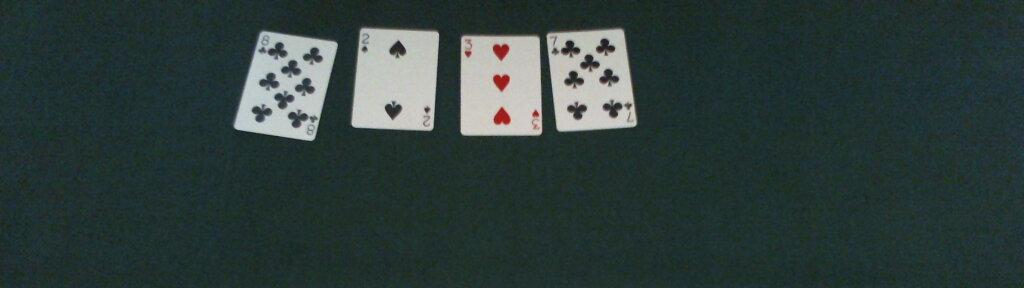eight: (233, 30, 338, 141)
seven: (545, 26, 637, 132)
three: (459, 35, 543, 137)
two: (350, 26, 439, 130)
